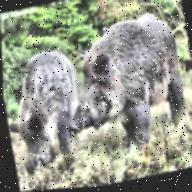boar: (59, 0, 192, 161), (1, 26, 83, 181)
